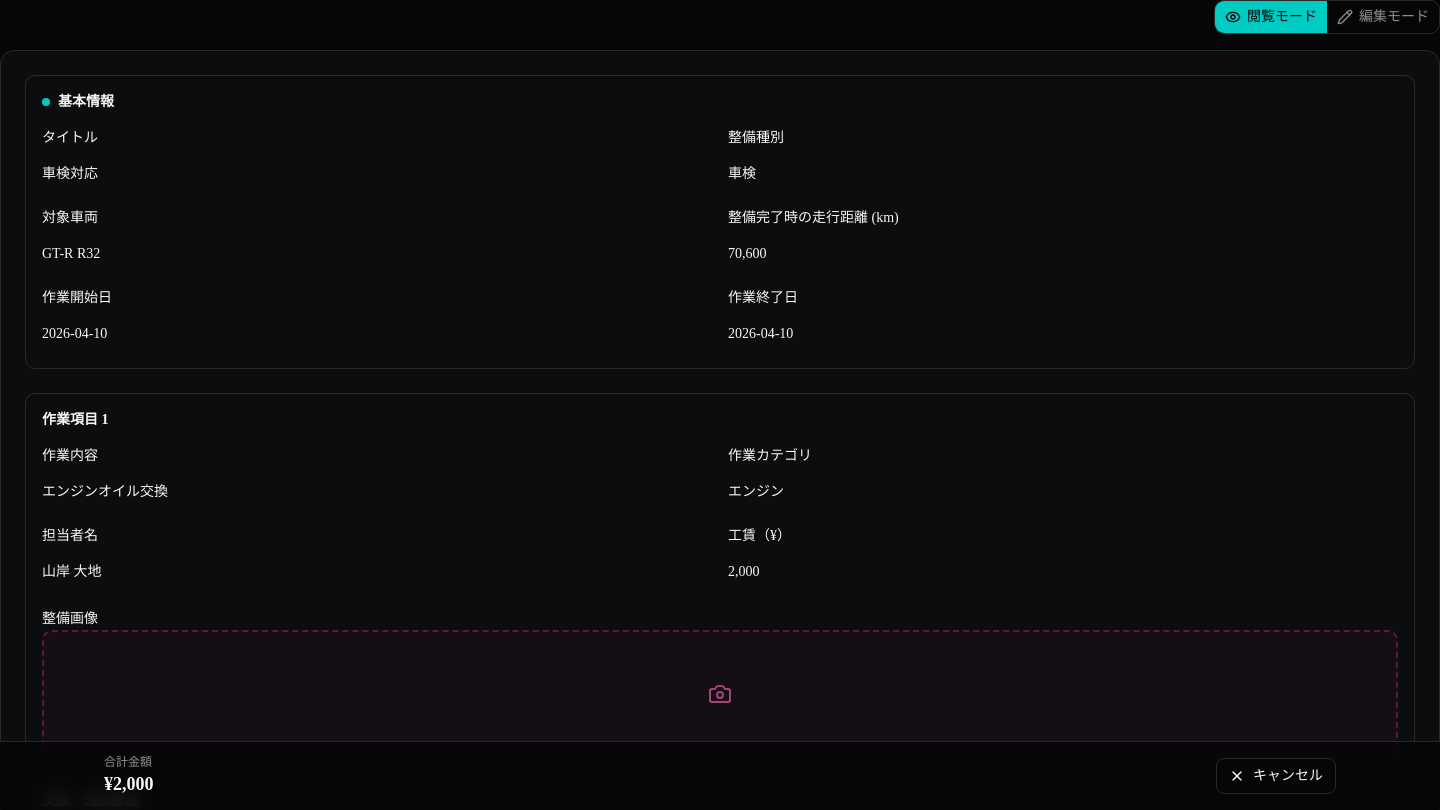
Test case: MaintenanceRecordDetailContent › 編集モードで変更がある状態から閲覧モードへ切り替えると確認ダイアログが表示される
The width and height of the screenshot is (1440, 810).
Click the button "編集モード". click: coordinates (1383, 17)
box: [1327, 1, 1439, 33]
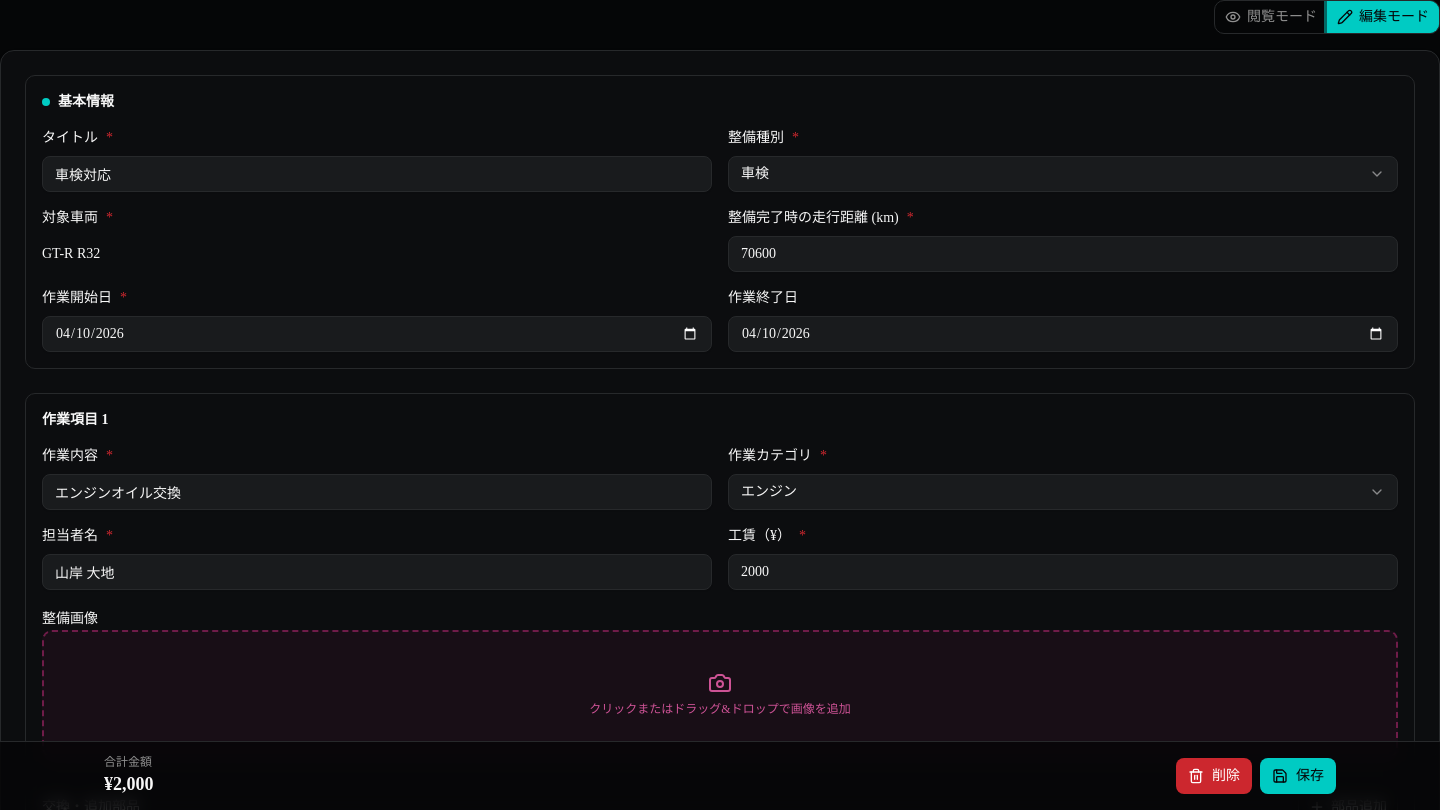
Replace the text in the field with placeholder "例：車検対応、オイル交換" with "変更後タイトル". click: coordinates (377, 174)
box: [42, 156, 712, 192]
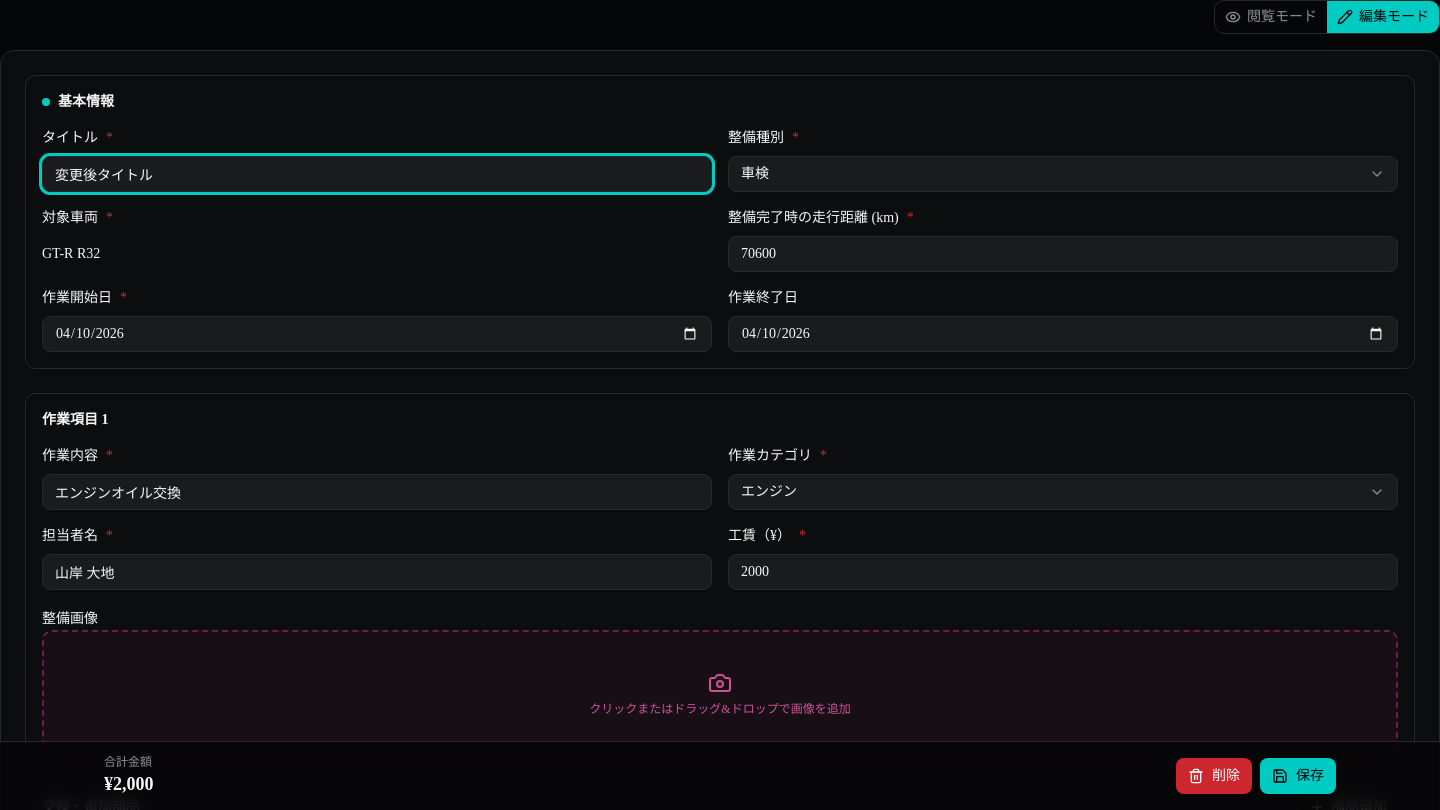
Click the button "閲覧モード". click: coordinates (1271, 17)
box: [1215, 1, 1327, 33]
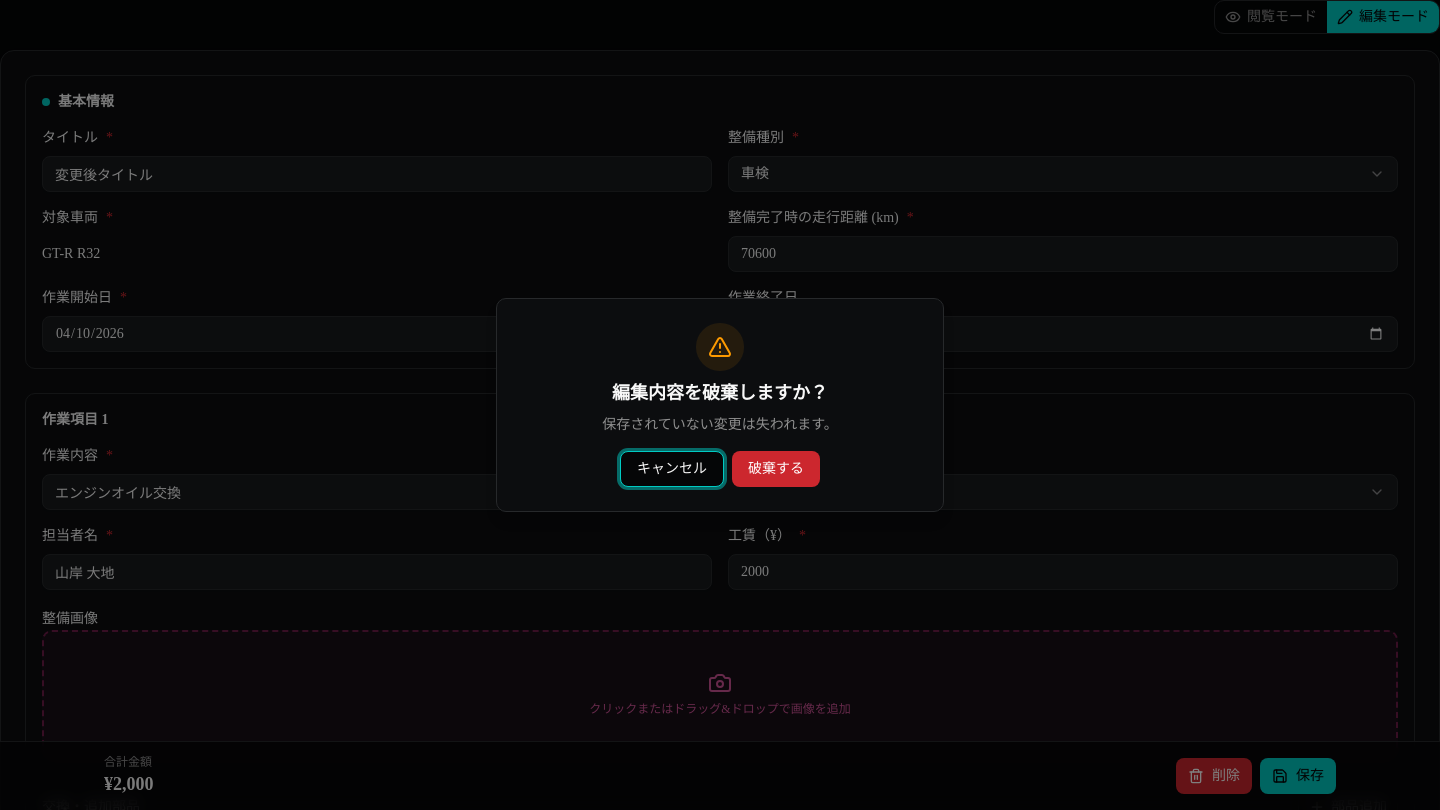
Expected: the heading "編集内容を破棄しますか？" is shown, [612, 379, 828, 407]
